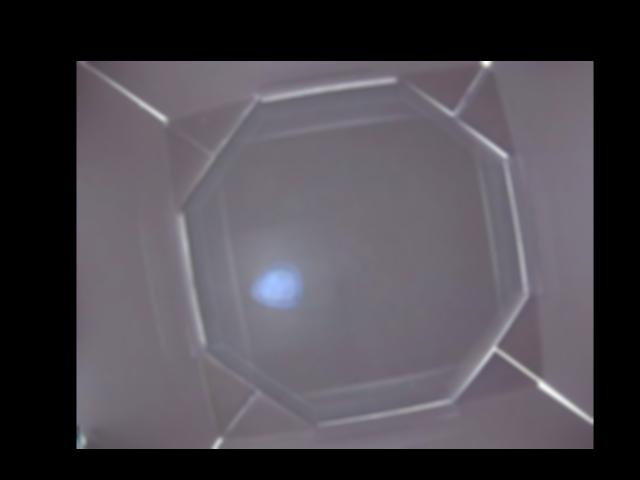Pebble: (249, 267, 298, 306)
